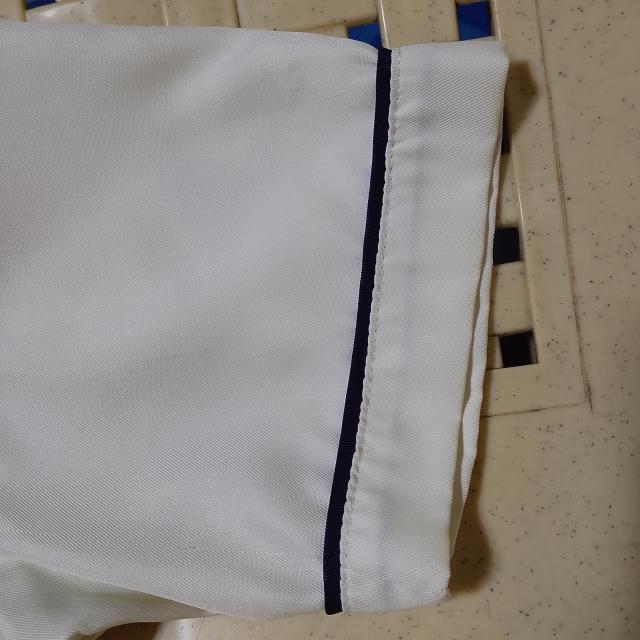education_male_uniform: (0, 0, 518, 607)
